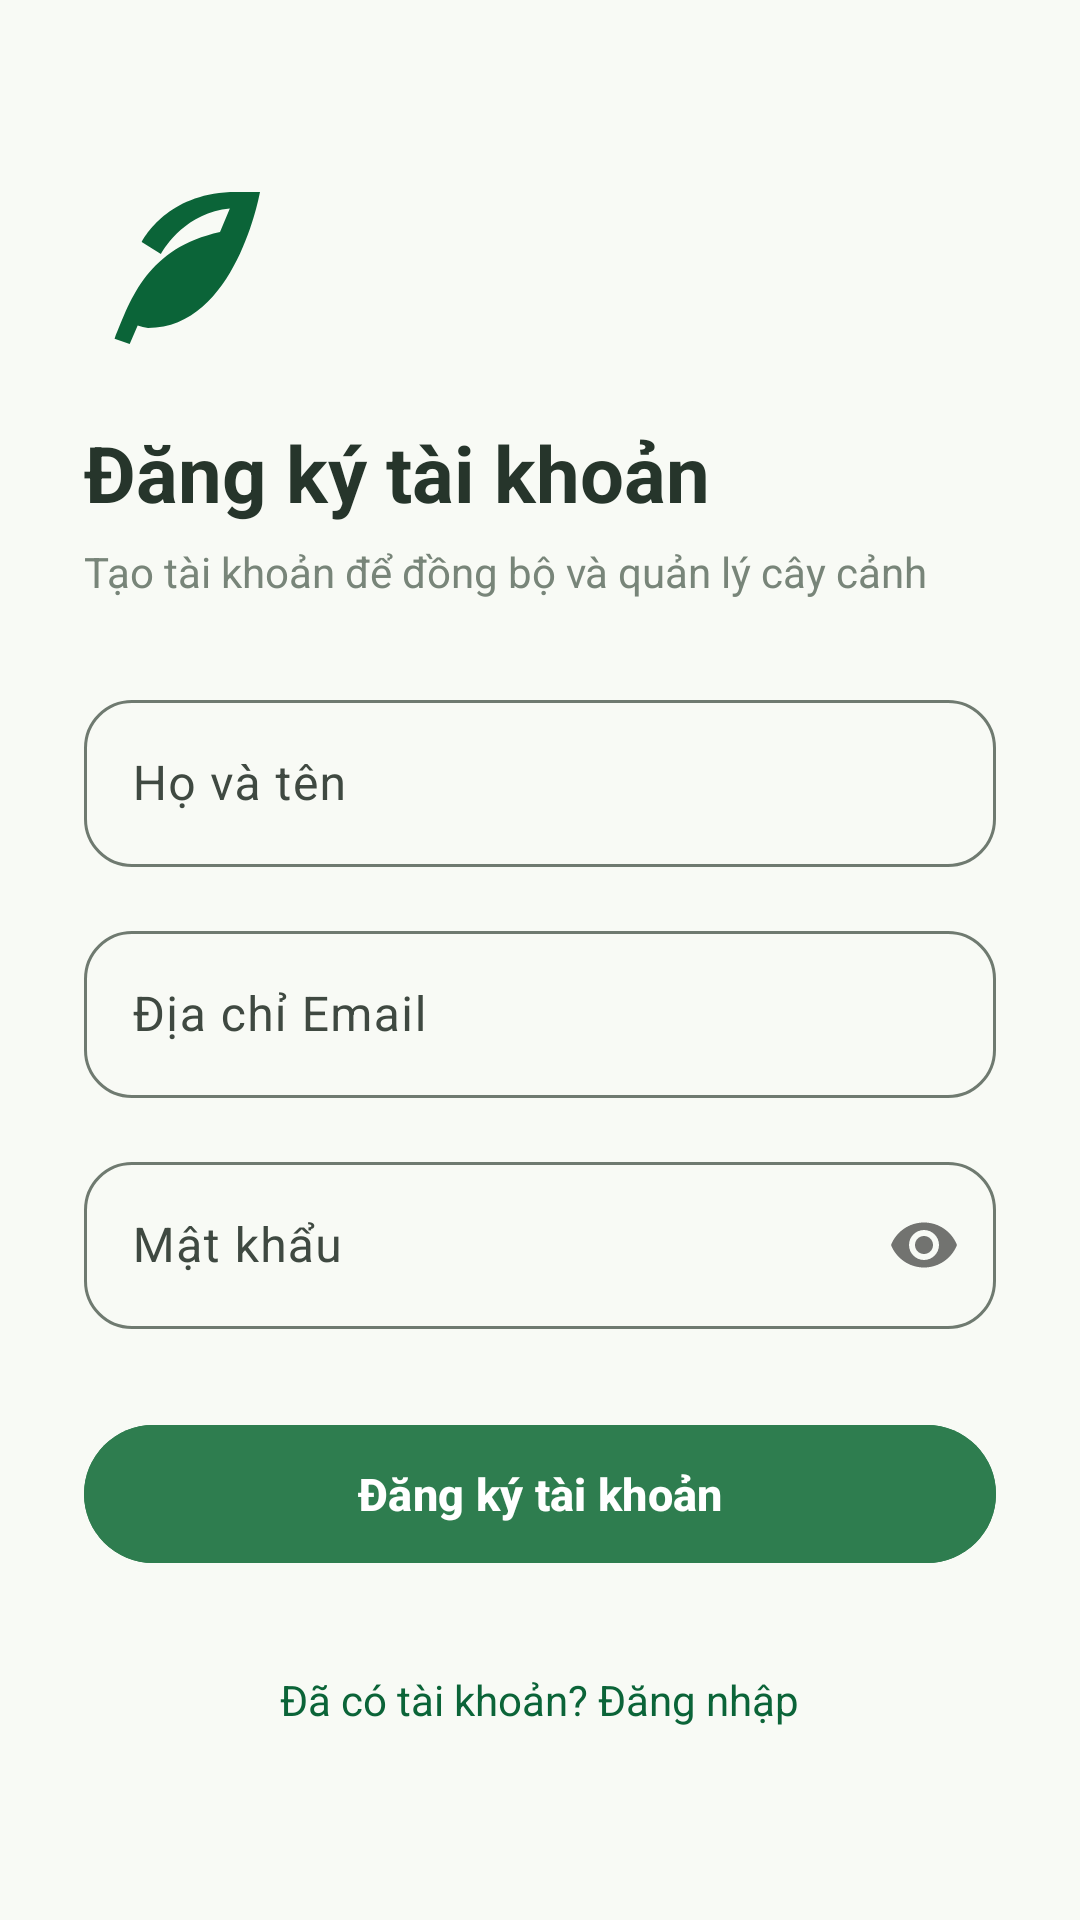

Point at icon controls on the screen. Image size 1080px x 1920px, points as [x,y].
leaf: [187,268]
